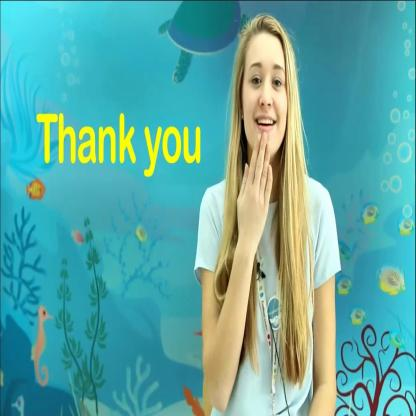ThankYou: (180, 2, 310, 409)
